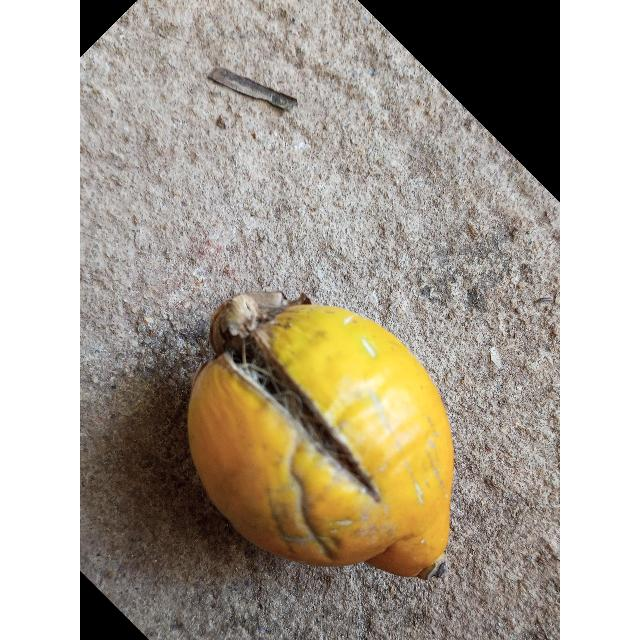damaged: (187, 297, 455, 581)
